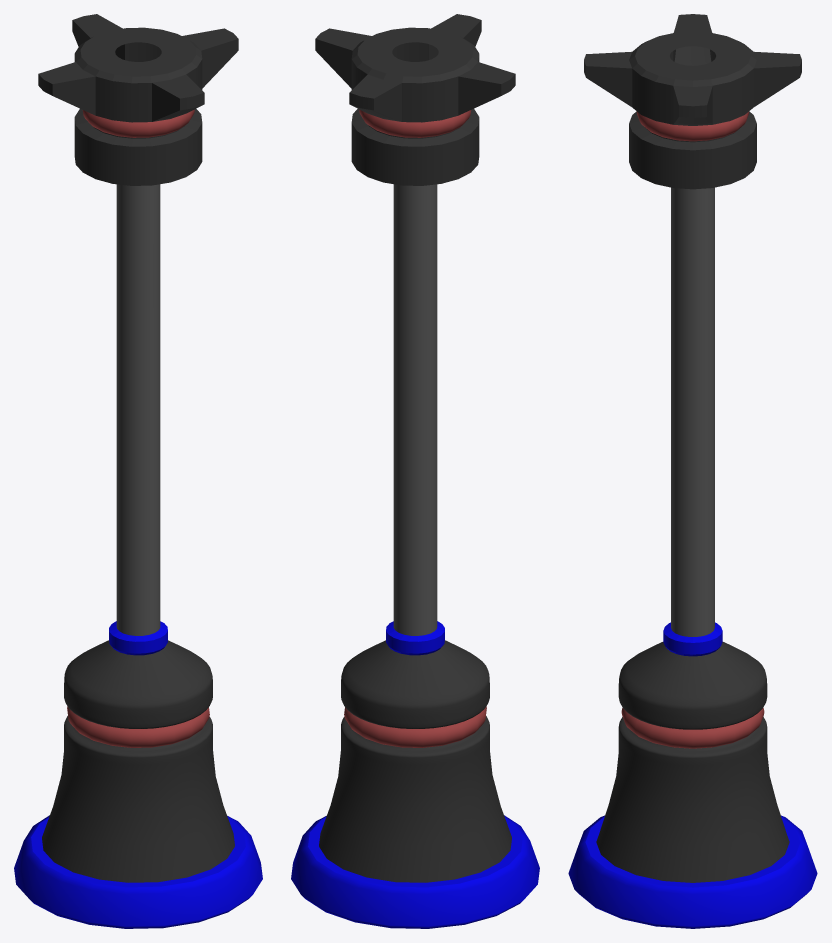
Rendered from PlatformPost.fbx.
3 renders of one model, left to right at view 1: azimuth 30°, elevation 25°; view 2: azimuth 150°, elevation 25°; view 3: azimuth 270°, elevation 25°, orthographic.
Parts seen in each view (by area): view 1: Bottom, Top, Post, Trim, EmissiveLower, EmissiveUpper, UpperTrim; view 2: Bottom, Top, Post, Trim, EmissiveLower, EmissiveUpper, UpperTrim; view 3: Bottom, Top, Post, Trim, EmissiveLower, EmissiveUpper, UpperTrim.
Boxes of the visible parts, left/top/right/bottom form: Bottom: left=42, top=640, right=234, bottom=882; Top: left=38, top=14, right=238, bottom=185; Post: left=116, top=184, right=160, bottom=635; Trim: left=14, top=815, right=262, bottom=928; EmissiveLower: left=67, top=706, right=209, bottom=747; EmissiveUpper: left=82, top=109, right=194, bottom=137; UpperTrim: left=109, top=621, right=167, bottom=655; Bottom: left=319, top=640, right=511, bottom=882; Top: left=315, top=14, right=515, bottom=185; Post: left=393, top=184, right=437, bottom=635; Trim: left=291, top=815, right=539, bottom=928; EmissiveLower: left=344, top=706, right=486, bottom=747; EmissiveUpper: left=359, top=109, right=471, bottom=137; UpperTrim: left=386, top=621, right=444, bottom=655; Bottom: left=596, top=642, right=789, bottom=882; Top: left=584, top=14, right=801, bottom=189; Post: left=671, top=187, right=714, bottom=636; Trim: left=568, top=815, right=817, bottom=928; EmissiveLower: left=621, top=708, right=764, bottom=748; EmissiveUpper: left=636, top=111, right=749, bottom=141; UpperTrim: left=663, top=622, right=722, bottom=656.
Bounding box in the file's own units: 3.31 × 12.06 × 3.31.
